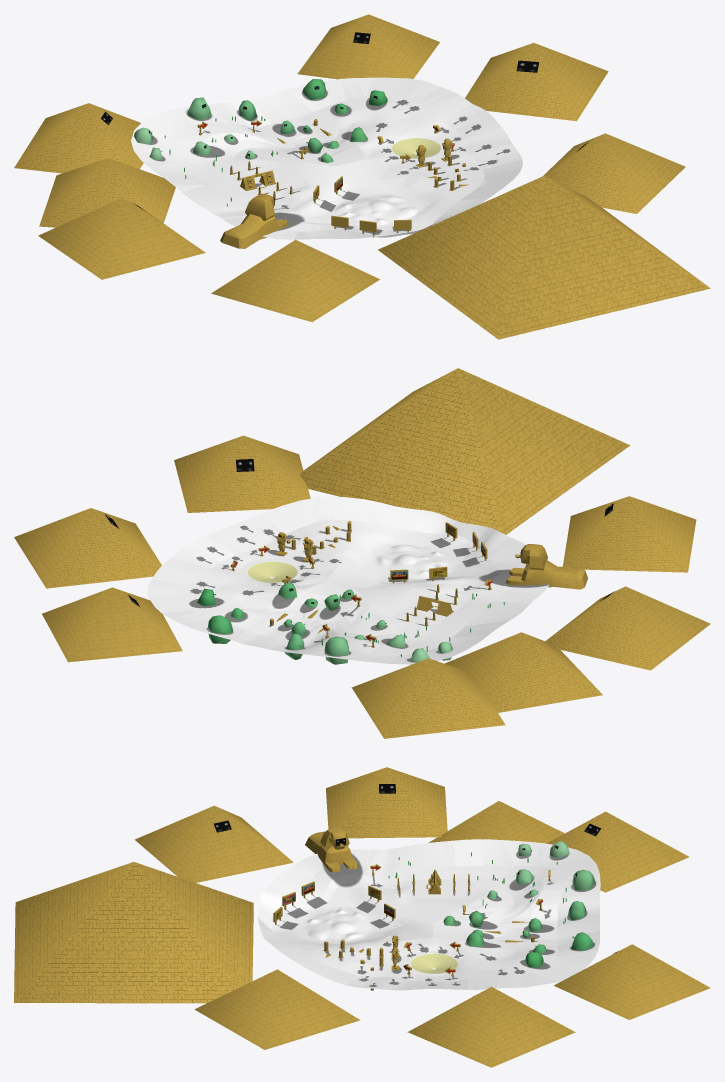
File: desert_course.dae
3 views of the same model, one above another, from view 1: azimuth 30°, elevation 25°; view 2: azimuth 150°, elevation 25°; view 3: azimuth 270°, elevation 25° (orthographic). The views are drawn at different scales.
Visible parts, largest first — view 1: n2b0, n11b7, n8b12, n10b6, n9b13, n3b16, n12b4, n7b3, n0b8, n15b2; view 2: n2b0, n11b7, n8b12, n10b6, n9b13, n3b16, n12b4, n0b8, n15b2; view 3: n2b0, n11b7, n8b12, n10b6, n9b13, n3b16, n12b4, n0b8, n7b3, n15b2.
Boxes of the visible parts, x1,y1,x2,y2 form: n2b0: [14, 14, 710, 339]; n11b7: [131, 77, 522, 239]; n8b12: [171, 97, 483, 236]; n10b6: [198, 108, 459, 231]; n9b13: [222, 115, 452, 226]; n3b16: [134, 79, 387, 163]; n12b4: [197, 119, 465, 237]; n7b3: [101, 32, 588, 210]; n0b8: [392, 138, 440, 158]; n15b2: [230, 120, 468, 199]; n2b0: [14, 368, 710, 738]; n11b7: [147, 497, 549, 664]; n8b12: [189, 520, 521, 655]; n10b6: [215, 531, 499, 646]; n9b13: [232, 535, 487, 640]; n3b16: [197, 582, 452, 664]; n12b4: [230, 521, 492, 647]; n0b8: [247, 561, 297, 582]; n15b2: [270, 523, 457, 633]; n2b0: [14, 767, 710, 1067]; n11b7: [258, 839, 600, 990]; n8b12: [271, 865, 567, 981]; n10b6: [289, 874, 543, 976]; n9b13: [301, 882, 527, 974]; n3b16: [443, 841, 595, 967]; n12b4: [273, 864, 550, 976]; n0b8: [410, 953, 457, 973]; n7b3: [214, 784, 618, 996]; n15b2: [324, 872, 534, 990].
Size of the model in its own units: 164206 by 29316 by 171065.
11 materials, 11 textured.
